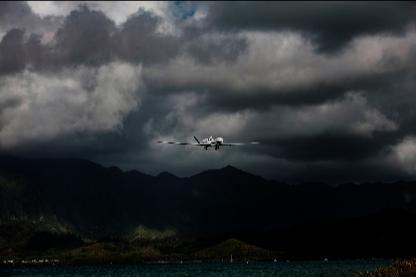P3: (154, 135, 262, 148)
